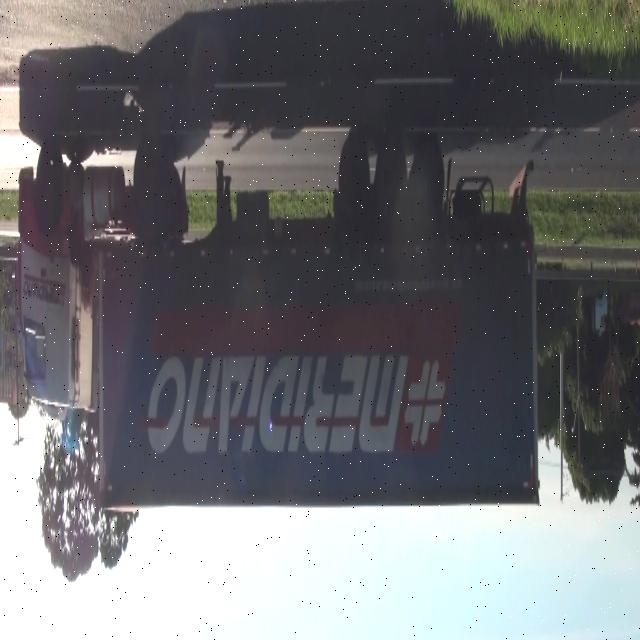-axle: (334, 136, 371, 224), (412, 140, 445, 233), (374, 137, 407, 230), (131, 146, 166, 228), (36, 145, 64, 225)
